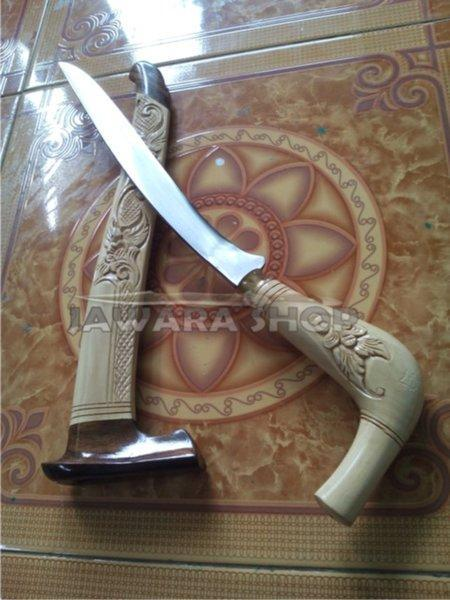espada: (59, 62, 420, 519)
